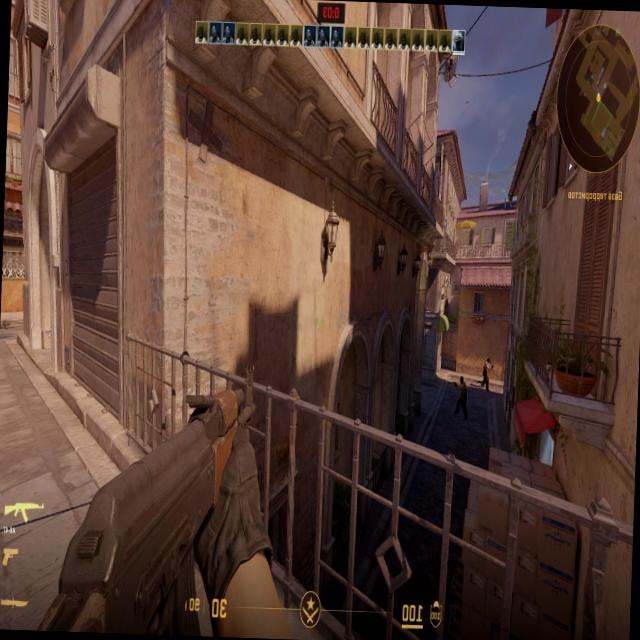T: (458, 376, 469, 415), (482, 360, 491, 390)
T_heat: (462, 379, 464, 387), (486, 362, 489, 367)
